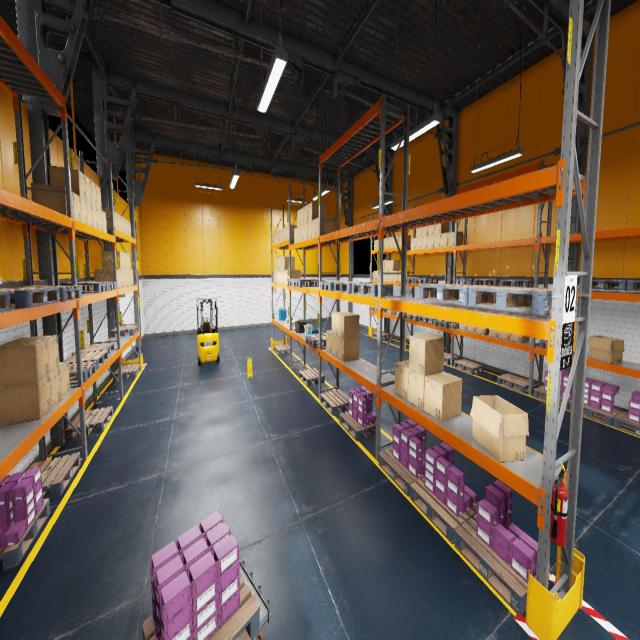box: (469, 395, 528, 462), (0, 374, 51, 426), (0, 340, 49, 387), (6, 335, 59, 374), (424, 371, 462, 422), (31, 183, 74, 219), (409, 333, 444, 376), (408, 369, 443, 410), (49, 166, 86, 200), (588, 336, 624, 364), (394, 360, 408, 400), (338, 336, 359, 362), (338, 313, 359, 338), (332, 311, 351, 336), (50, 367, 61, 408), (94, 269, 118, 287), (59, 361, 70, 399), (101, 251, 123, 269), (317, 216, 335, 236), (308, 202, 325, 222), (102, 208, 115, 228), (73, 192, 81, 222), (448, 231, 463, 246), (85, 175, 92, 204), (510, 333, 529, 343), (80, 197, 87, 224), (282, 256, 295, 270), (86, 201, 93, 226), (91, 180, 97, 208), (434, 222, 448, 234), (92, 204, 98, 229), (287, 224, 297, 238), (97, 208, 103, 231), (398, 270, 409, 282), (399, 235, 410, 247), (96, 184, 101, 210), (326, 330, 331, 354), (476, 326, 489, 335), (332, 334, 337, 357), (287, 270, 301, 278), (389, 260, 400, 270), (441, 232, 448, 247), (499, 331, 510, 340), (434, 234, 441, 248), (421, 236, 428, 249), (489, 329, 499, 338), (102, 210, 106, 232), (312, 218, 316, 238), (428, 235, 434, 248), (308, 220, 312, 239), (304, 204, 308, 223), (114, 211, 118, 229), (304, 222, 308, 240), (300, 207, 304, 225), (410, 238, 416, 250), (122, 252, 126, 269), (416, 237, 421, 250), (300, 225, 304, 241), (468, 325, 476, 333), (393, 270, 398, 282), (428, 225, 434, 235), (422, 226, 428, 236), (416, 227, 422, 237), (460, 324, 468, 331), (394, 236, 399, 247), (385, 237, 390, 248), (118, 213, 121, 231), (118, 269, 121, 287), (297, 209, 300, 227), (121, 216, 124, 233), (128, 253, 131, 270), (126, 220, 129, 236), (121, 270, 124, 286), (126, 270, 129, 286), (125, 253, 128, 269), (297, 226, 300, 242), (390, 236, 394, 248), (128, 221, 131, 236), (294, 228, 297, 243), (388, 309, 397, 314), (389, 271, 393, 281), (384, 271, 388, 281), (384, 260, 388, 270), (282, 270, 285, 283), (373, 271, 377, 280), (124, 218, 126, 234), (124, 270, 126, 286), (129, 270, 131, 286), (131, 270, 133, 285), (374, 240, 377, 250), (285, 226, 287, 240), (285, 270, 287, 284), (280, 256, 282, 270), (282, 228, 284, 241), (280, 229, 282, 242), (278, 230, 280, 243), (280, 270, 282, 283), (278, 270, 280, 283), (276, 270, 278, 283), (278, 257, 280, 270), (274, 270, 276, 282), (276, 258, 278, 270), (291, 321, 295, 326), (383, 260, 385, 270), (384, 238, 386, 248), (292, 318, 298, 321), (285, 319, 289, 323), (276, 231, 277, 244), (274, 232, 275, 244), (293, 322, 295, 327), (383, 271, 384, 281), (377, 271, 378, 280), (378, 239, 378, 249)
forklift: (197, 298, 219, 366)
pallets: (454, 514, 550, 616), (142, 572, 260, 639), (410, 477, 477, 544), (0, 498, 50, 570), (26, 452, 80, 498), (468, 286, 552, 314), (379, 446, 424, 496), (418, 284, 496, 305), (65, 406, 113, 440), (568, 401, 622, 426), (0, 285, 82, 301), (0, 288, 60, 308), (339, 411, 376, 441), (533, 385, 571, 410), (64, 350, 109, 369), (497, 374, 535, 394), (320, 390, 348, 416), (613, 411, 640, 436), (68, 361, 96, 384), (72, 342, 115, 355), (352, 283, 393, 296), (60, 282, 108, 293), (539, 340, 574, 355), (299, 368, 324, 386), (453, 359, 483, 374), (113, 364, 141, 380), (592, 279, 632, 290), (334, 281, 369, 293), (304, 332, 326, 348), (110, 325, 138, 337), (79, 281, 116, 290), (320, 281, 352, 290), (499, 280, 534, 287), (433, 319, 459, 328), (0, 291, 11, 311), (474, 279, 505, 286), (293, 279, 318, 287), (274, 344, 292, 355), (287, 278, 308, 286), (444, 352, 458, 364), (418, 316, 438, 324), (626, 280, 640, 291), (456, 278, 481, 284), (414, 278, 438, 284), (372, 332, 390, 339), (405, 313, 422, 320), (406, 277, 423, 283), (372, 307, 387, 312)
